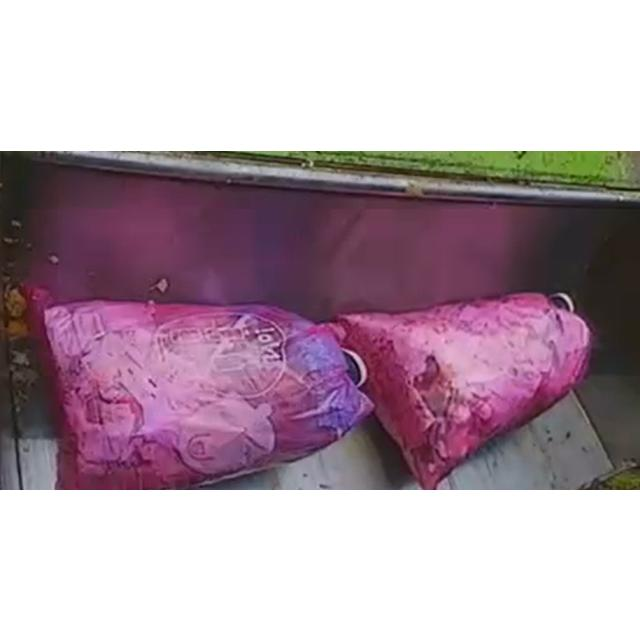other_trashbag: (44, 300, 374, 489), (331, 292, 591, 489)
